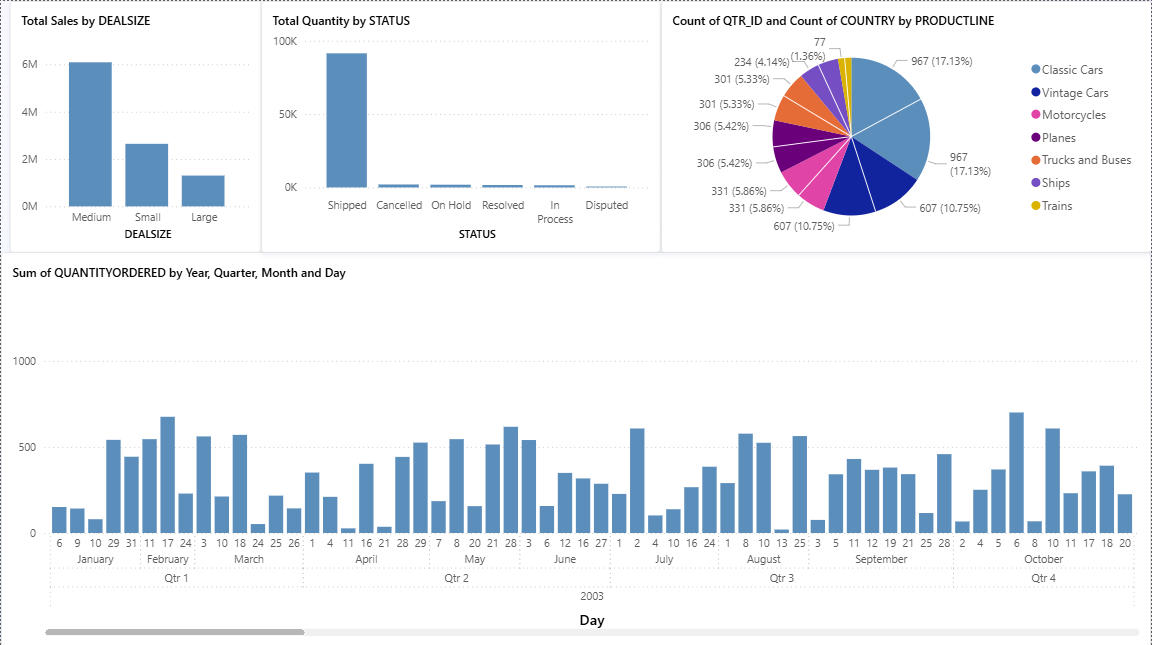

The page's visual inventory and layout, read from the dashboard file:
{"tool":"powerbi","page":{"name":"Page 2","canvas":[1280,720],"ordinal":1},"visuals":[{"type":"columnChart","fields":{"Y":["SECRET.Total Sales"],"Category":["SECRET.DEALSIZE"]},"box":[10,0,280,280],"z":0},{"type":"clusteredColumnChart","fields":{"Y":["Sum(SECRET.QUANTITYORDERED)"],"Category":["SECRET.ORDERDATE.Variation.Date Hierarchy.Year","SECRET.ORDERDATE.Variation.Date Hierarchy.Quarter","SECRET.ORDERDATE.Variation.Date Hierarchy.Month","SECRET.ORDERDATE.Variation.Date Hierarchy.Day"]},"box":[0,279.9,1280.3,440.5],"z":1000},{"type":"clusteredColumnChart","fields":{"Y":["SECRET.Total Quantity"],"Category":["SECRET.STATUS"]},"box":[289.5,0,444.6,279.9],"z":3000},{"type":"pieChart","fields":{"Category":["SECRET.PRODUCTLINE"],"Y":["CountNonNull(SECRET.QTR_ID)","CountNonNull(SECRET.COUNTRY)"]},"box":[734.1,0,546.1,279.9],"z":4000}]}

Visuals, with their boxes in screenshot pixels (x1, y1, x2, y2), scaled from the page's 1280x720 canvas onto the 1152x645 screenshot:
columnChart - SECRET.Total Sales x SECRET.DEALSIZE: box=[9, 0, 261, 251]
clusteredColumnChart - Sum(SECRET.QUANTITYORDERED) x SECRET.ORDERDATE.Variation.Date Hierarchy.Year: box=[0, 251, 1151, 644]
clusteredColumnChart - SECRET.Total Quantity x SECRET.STATUS: box=[261, 0, 661, 251]
pieChart - SECRET.PRODUCTLINE x CountNonNull(SECRET.QTR_ID): box=[661, 0, 1151, 251]
